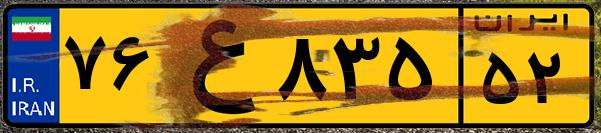2: (525, 38, 570, 115)
3: (330, 28, 385, 110)
5: (385, 28, 445, 110), (475, 38, 525, 113)
6: (110, 28, 158, 98)
7: (57, 26, 110, 100)
8: (270, 28, 330, 110)
ع: (158, 12, 270, 120)
